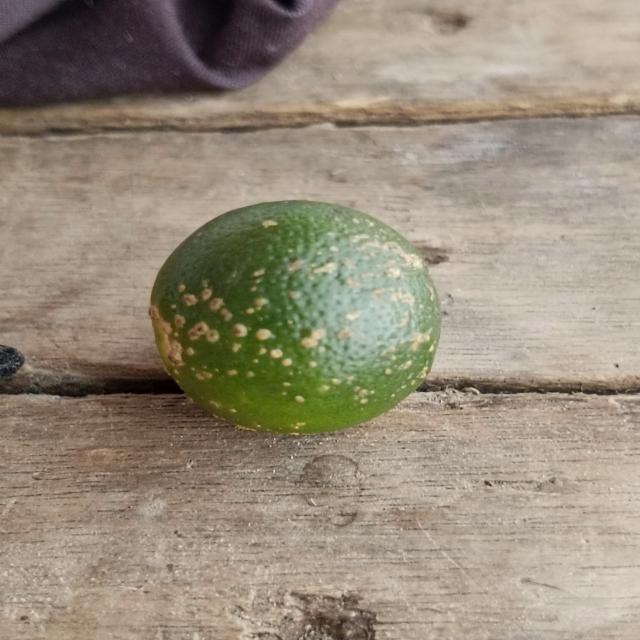scab: (139, 192, 447, 427)
